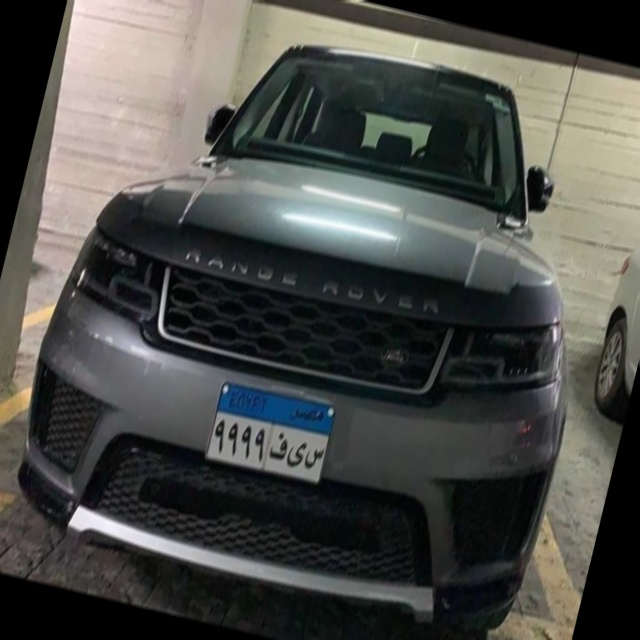License Plate: (204, 377, 341, 487)
